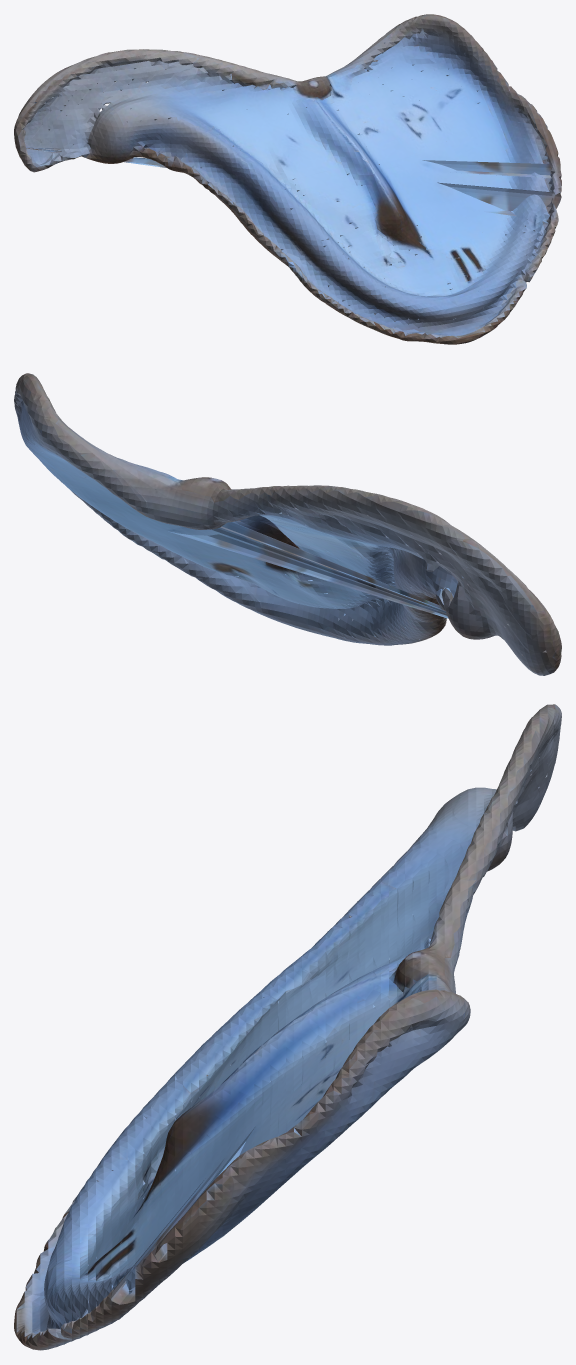
3 renders of one model, top to bottom at view 1: azimuth 30°, elevation 25°; view 2: azimuth 150°, elevation 25°; view 3: azimuth 270°, elevation 25°, orthographic. The views are drawn at different scales.
Parts seen in each view (by area): view 1: Hy21_Mesh.obj; view 2: Hy21_Mesh.obj; view 3: Hy21_Mesh.obj.
Boxes of the visible parts, x1=… form: Hy21_Mesh.obj: x1=14, y1=14, x2=561, y2=344; Hy21_Mesh.obj: x1=14, y1=373, x2=561, y2=675; Hy21_Mesh.obj: x1=14, y1=704, x2=561, y2=1350.
Size of the model in its own units: 0.9069 by 0.4646 by 0.5436.
Materials: 1 (1 with a texture image).
